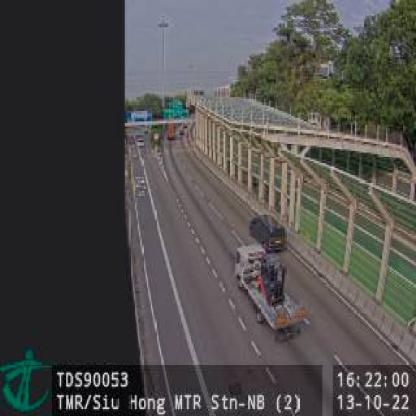Car: (248, 211, 286, 251)
Truck: (235, 244, 307, 336)
